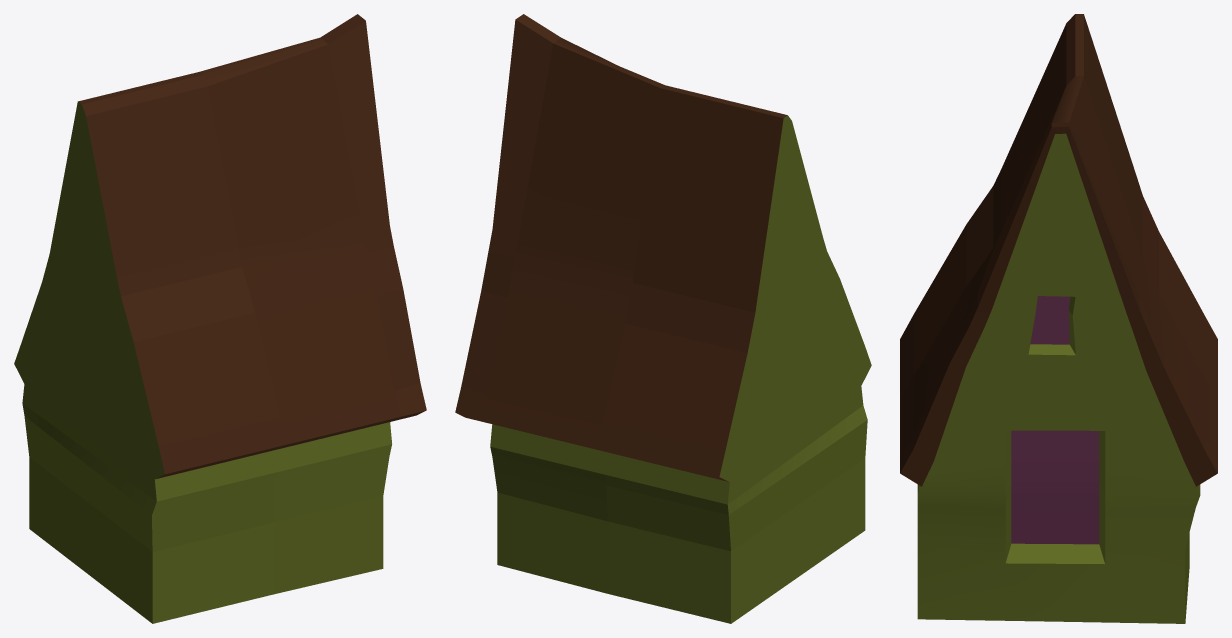
Rendered from SM_HouseAttach_01.fbx.
The picture shows the model from 3 angles, left to right: view 1: azimuth 30°, elevation 25°; view 2: azimuth 150°, elevation 25°; view 3: azimuth 270°, elevation 25°; orthographic projection. The views are drawn at different scales.
Visible parts, largest first — view 1: pCube44; view 2: pCube44; view 3: pCube44.
Boxes of the visible parts, x1=… form: pCube44: x1=14, y1=14, x2=426, y2=623; pCube44: x1=455, y1=14, x2=871, y2=623; pCube44: x1=900, y1=14, x2=1217, y2=623.
Size of the model in its own units: 187 by 176 by 315.
